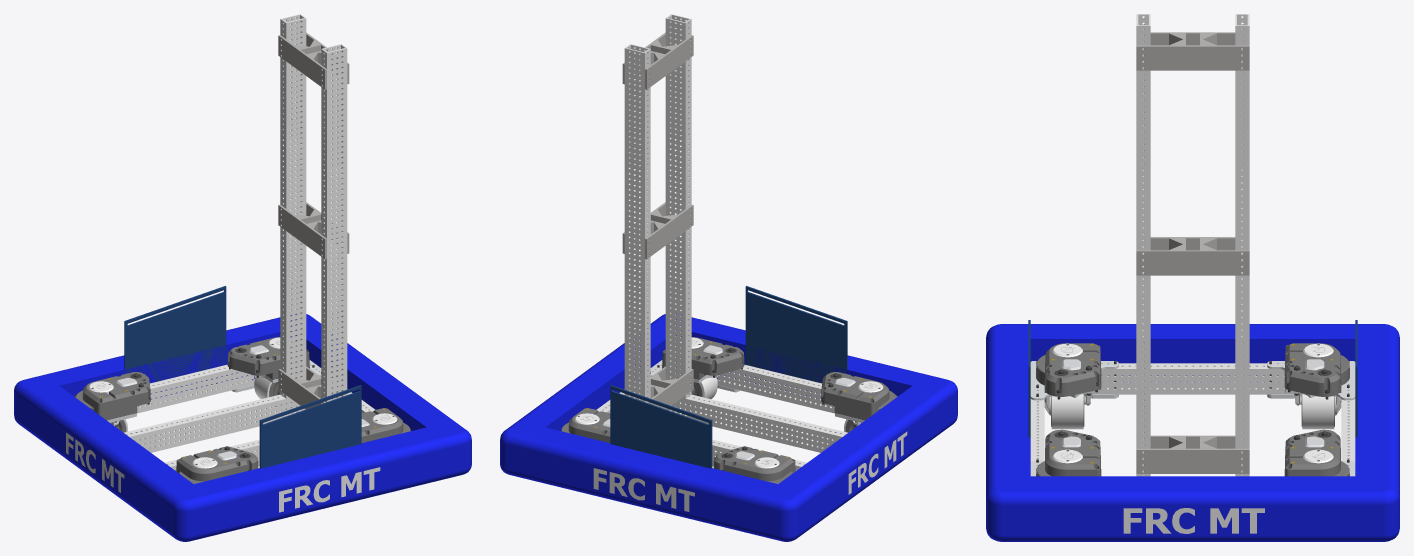
3 views of the same model, side by side, from view 1: azimuth 30°, elevation 25°; view 2: azimuth 150°, elevation 25°; view 3: azimuth 270°, elevation 25° (orthographic). The views are drawn at different scales.
Visible parts, largest first — view 1: Sólido1 (×14); view 2: Sólido1 (×14); view 3: Sólido1 (×18).
Boxes of the visible parts, <box> form: Sólido1 (×14): <box>14,14,471,541</box>; Sólido1 (×14): <box>500,14,957,541</box>; Sólido1 (×18): <box>986,14,1399,541</box>.
Size of the model in its own units: 0.7442 by 0.9952 by 0.7442.
